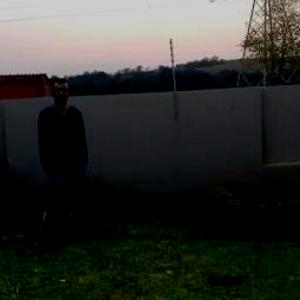follow: (37, 76, 92, 246)
